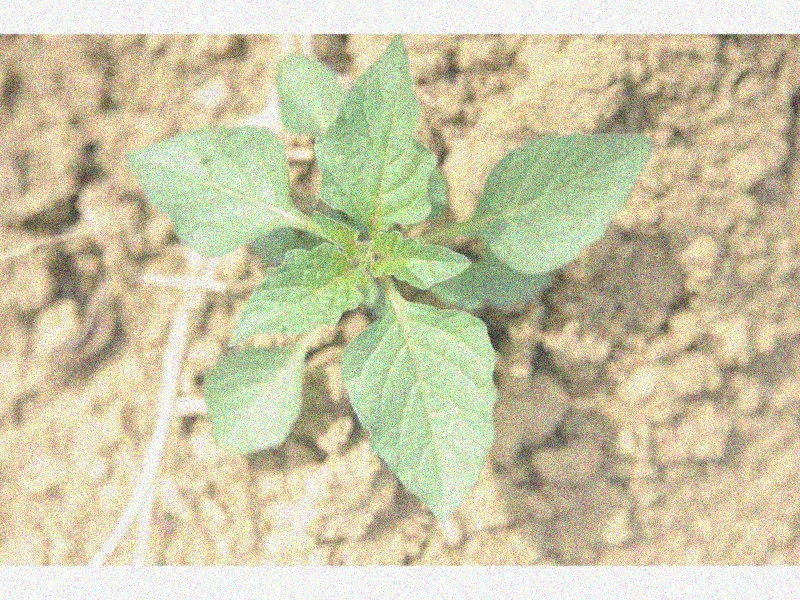nightshade: (125, 34, 651, 524)
